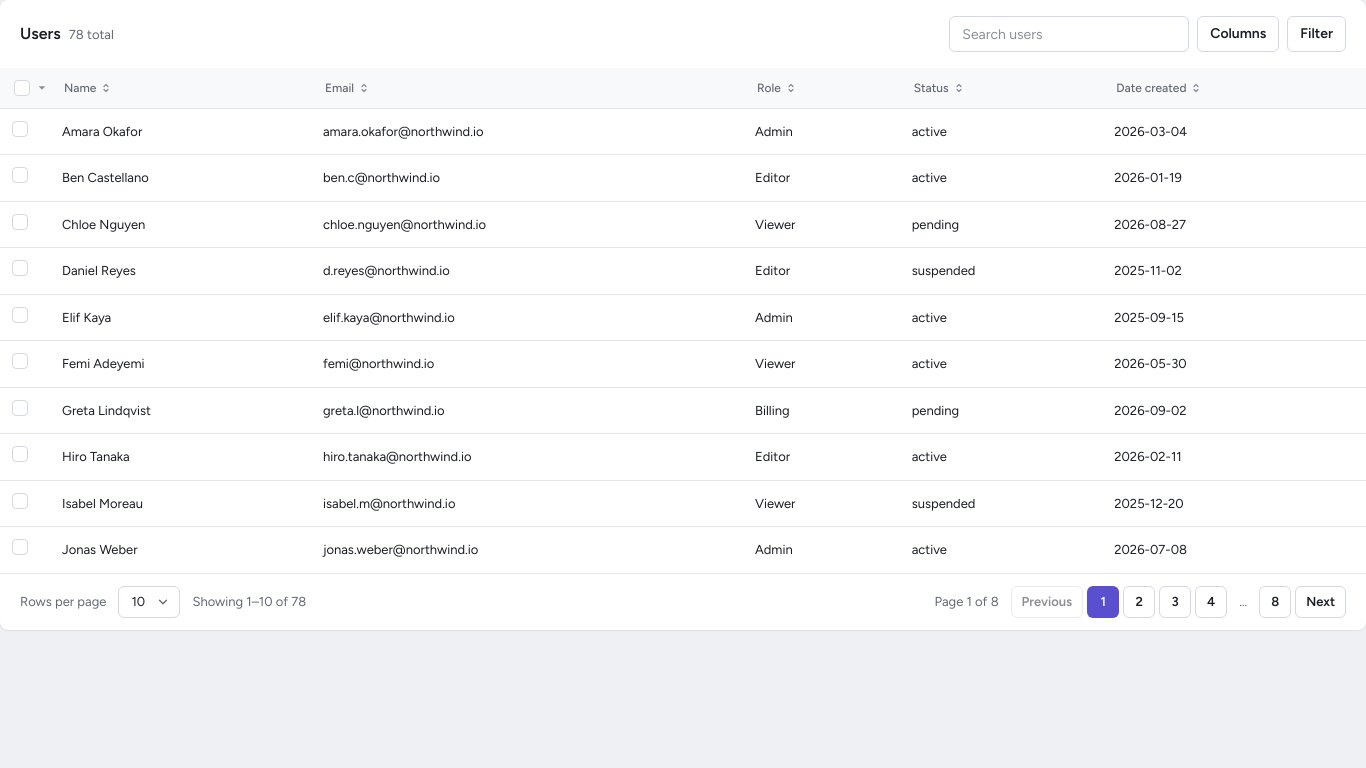
Scenario: DataTable · pagination › renders the range, numbered pages and disables Previous on page 1
The width and height of the screenshot is (1366, 768).
Expected: the text "Showing 1–10 of 78" is shown, [192,592,306,611]
Expected: the text "Page 1 of 8" is shown, [934,592,999,611]
Click the button with aria-label "Next page": (1321, 602) [1295,586,1346,618]
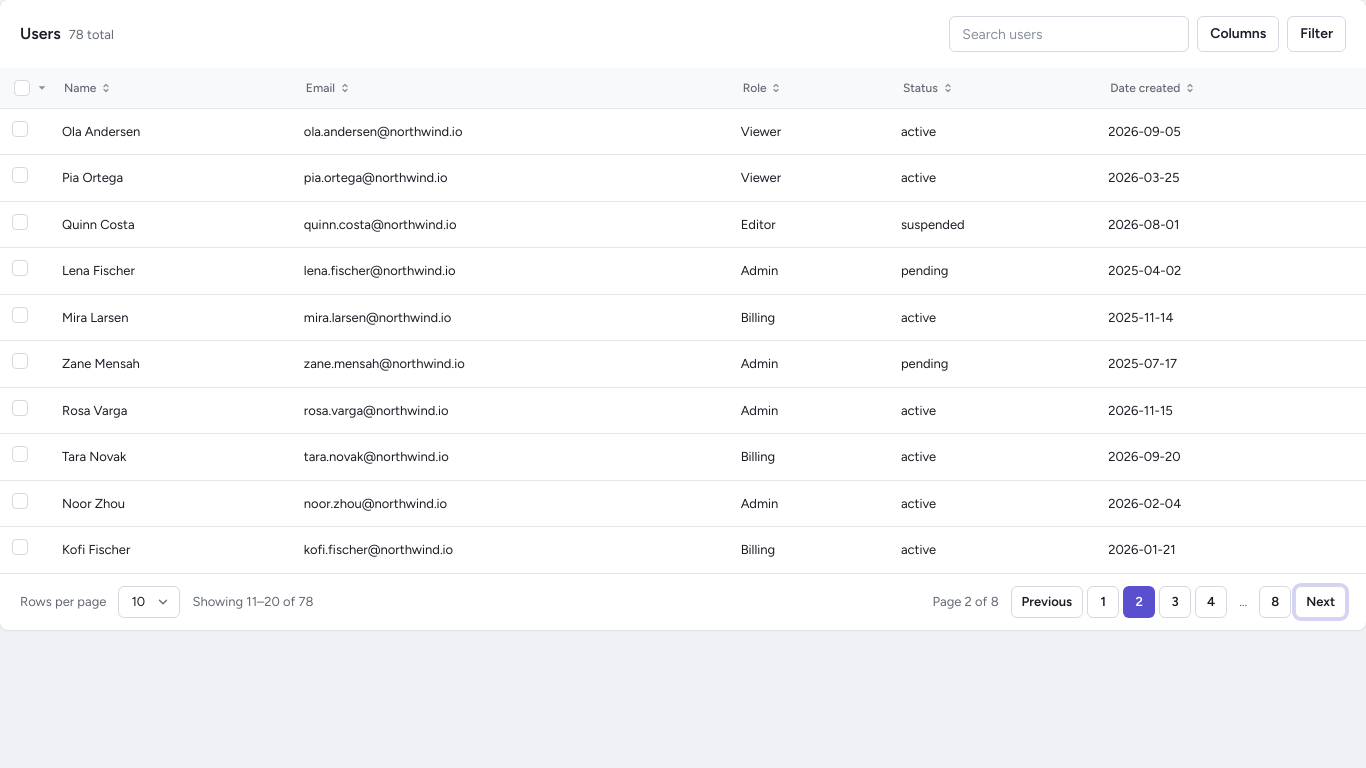
Expected: the text "Showing 11–20 of 78" is shown, [192,592,314,611]
